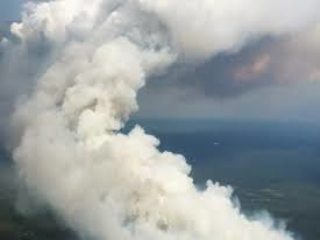smoke: (9, 8, 158, 232), (90, 154, 317, 237)
